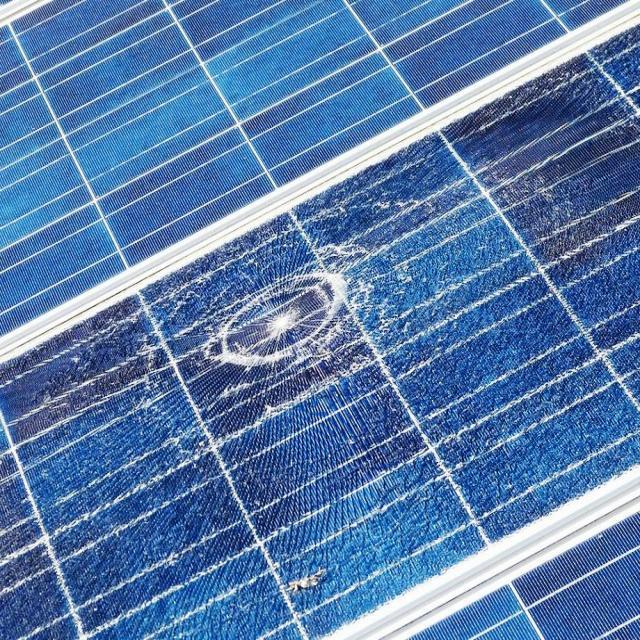faulty: (2, 29, 638, 640)
no faulty: (2, 2, 620, 344)
